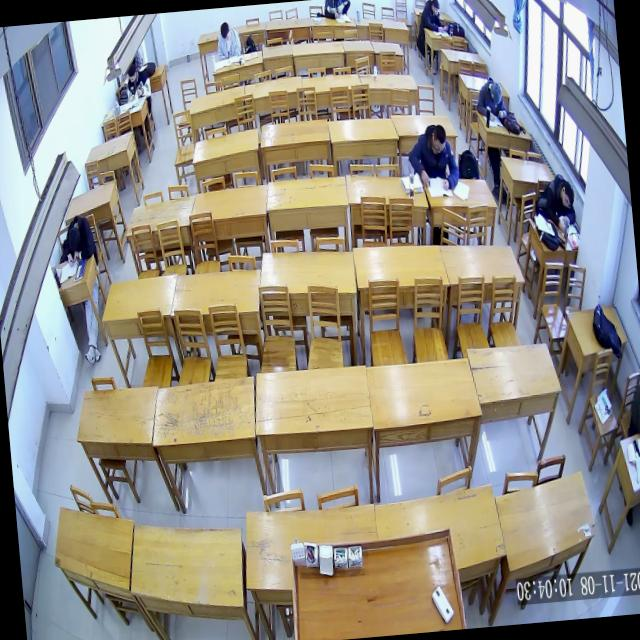bow: (537, 174, 577, 231), (59, 213, 98, 266)
down: (431, 122, 446, 152), (66, 226, 82, 252), (560, 181, 574, 209), (220, 20, 230, 41), (126, 63, 137, 82), (430, 0, 439, 16)
sit: (404, 121, 460, 192), (214, 20, 242, 60), (124, 62, 152, 102), (418, 0, 447, 34)
